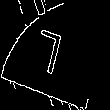L_S: (36, 25, 74, 85)
